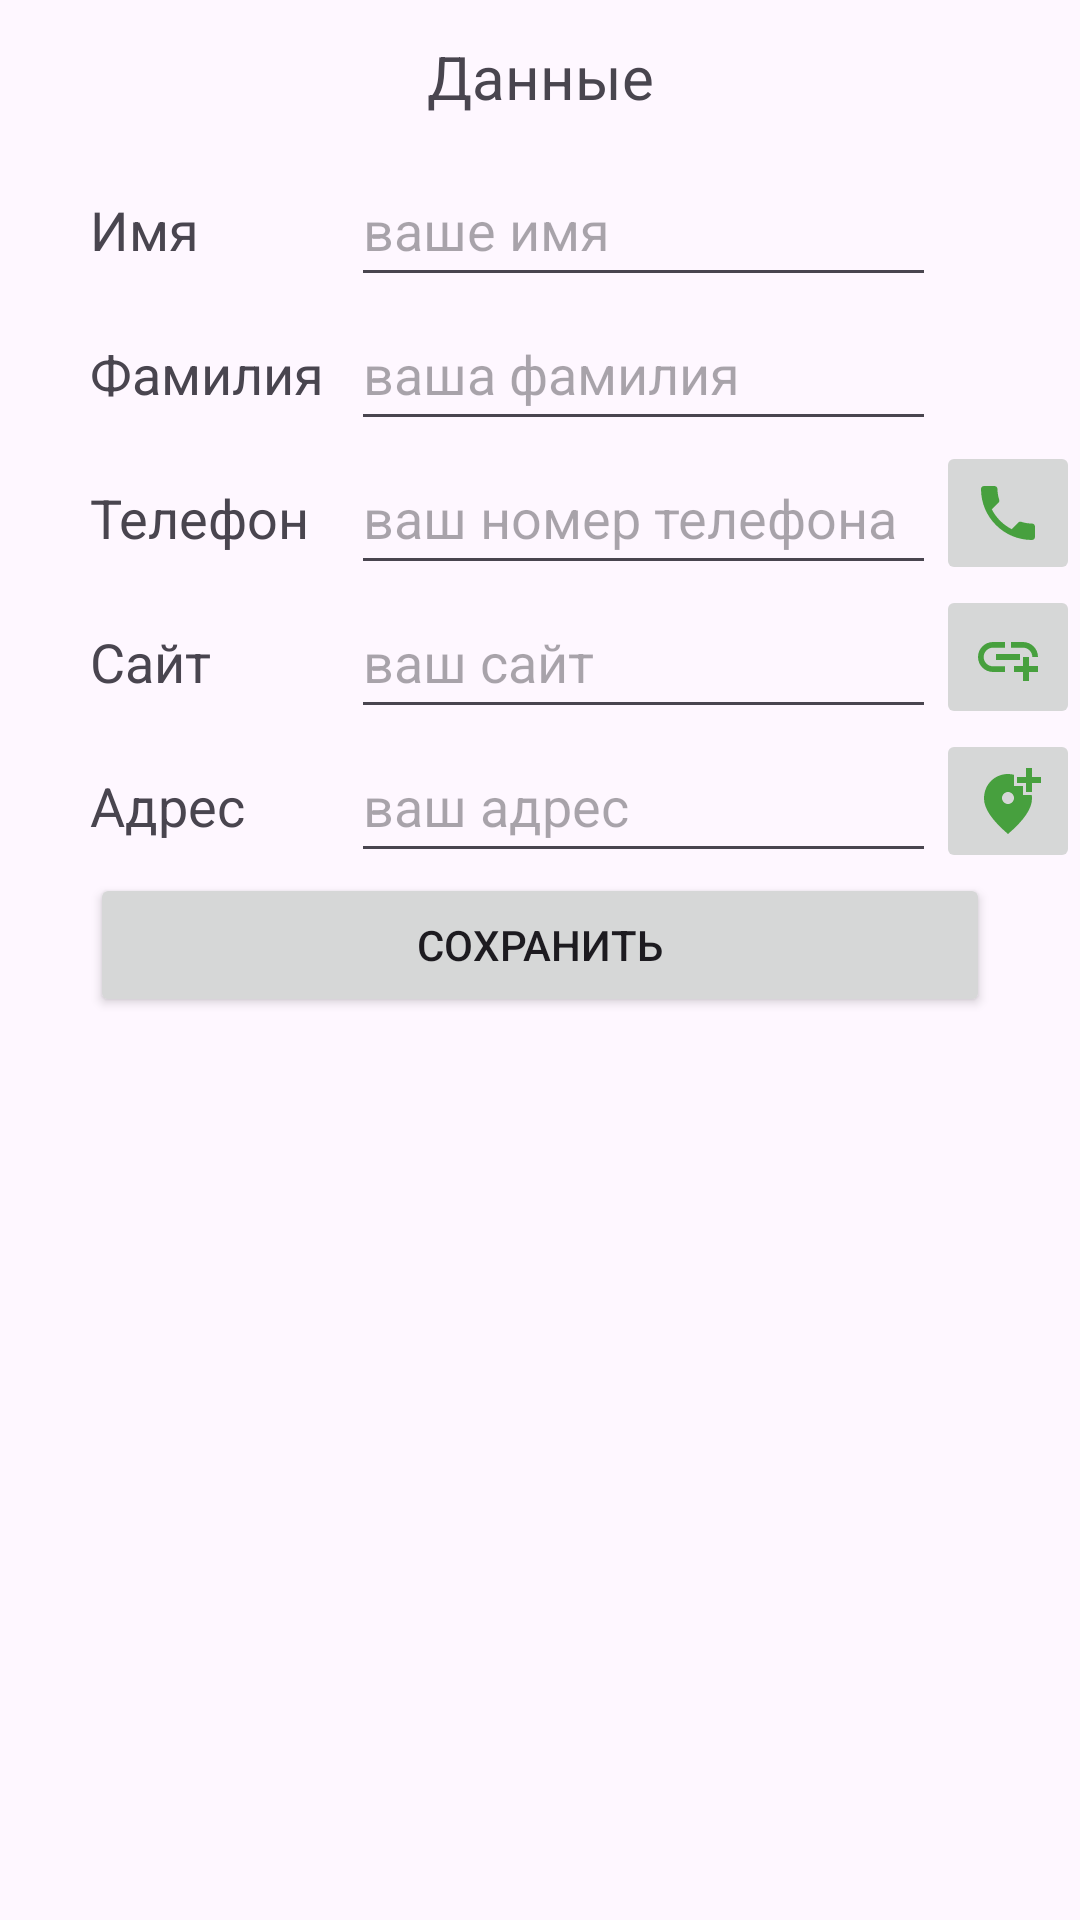

Icon bounding boxes for this 1080 x 1920 phone screenshot, format {"x1": x1, "y1": y1, "x2": x2, "y2": y2}:
address: {"x1": 948, "y1": 747, "x2": 1068, "y2": 855}
link: {"x1": 948, "y1": 603, "x2": 1068, "y2": 711}
phone: {"x1": 948, "y1": 459, "x2": 1068, "y2": 567}
